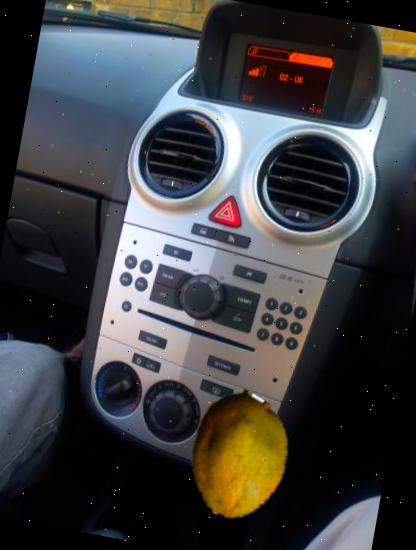Papaya: (165, 384, 309, 528)
